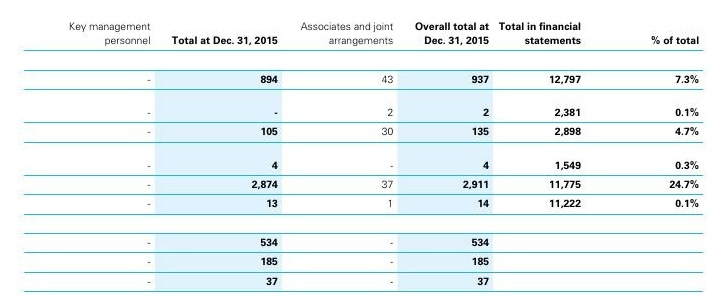table: (0, 0, 719, 305)
